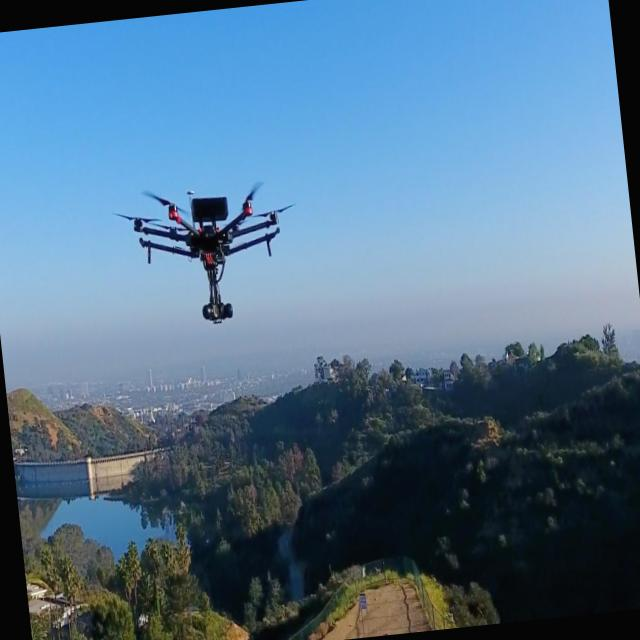drone: (110, 171, 308, 336)
